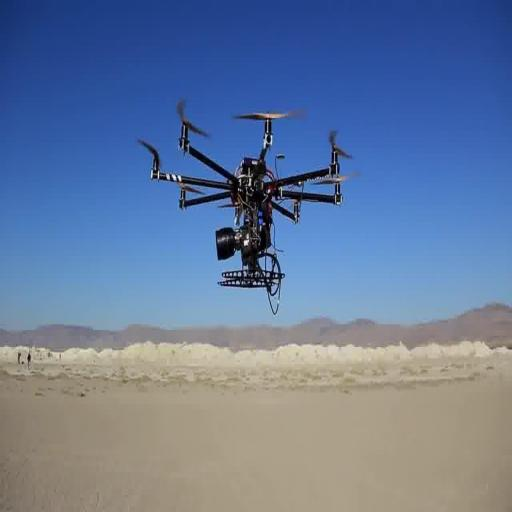drone: (139, 97, 363, 290)
